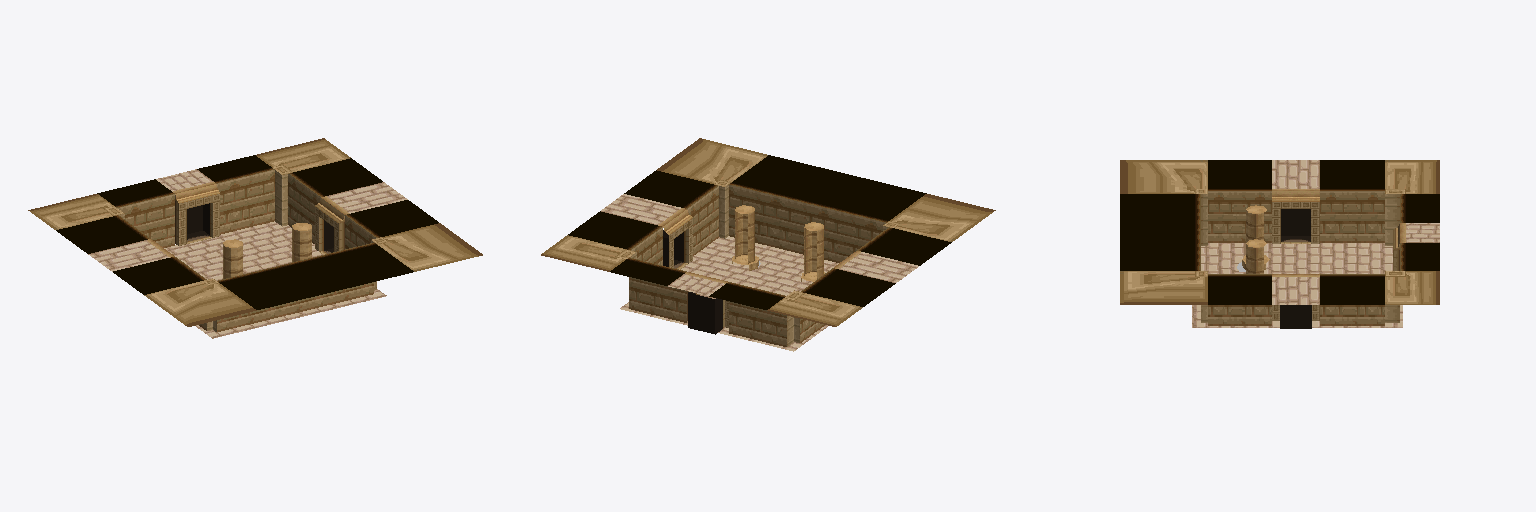
3 renders of one model, left to right at view 1: azimuth 30°, elevation 25°; view 2: azimuth 150°, elevation 25°; view 3: azimuth 270°, elevation 25°, orthographic.
Parts seen in each view (by area): view 1: polygon6, polygon1, polygon7, polygon5, polygon0, polygon2, polygon4, polygon3; view 2: polygon6, polygon7, polygon1, polygon5, polygon0, polygon3, polygon2, polygon4; view 3: polygon6, polygon1, polygon5, polygon7, polygon3, polygon2, polygon0, polygon4.
Part boxes in pixels (bbox=[...]): polygon6: bbox=[56, 155, 438, 309]; polygon1: bbox=[28, 138, 482, 326]; polygon7: bbox=[118, 170, 375, 331]; polygon5: bbox=[88, 169, 407, 338]; polygon0: bbox=[223, 223, 311, 278]; polygon2: bbox=[119, 170, 376, 331]; polygon4: bbox=[147, 182, 349, 257]; polygon3: bbox=[187, 203, 333, 253]; polygon6: bbox=[568, 155, 951, 309]; polygon7: bbox=[629, 185, 885, 346]; polygon1: bbox=[541, 138, 995, 327]; polygon5: bbox=[601, 194, 918, 351]; polygon0: bbox=[732, 205, 824, 281]; polygon3: bbox=[663, 230, 722, 334]; polygon2: bbox=[630, 185, 887, 346]; polygon4: bbox=[658, 208, 860, 283]; polygon6: bbox=[1120, 160, 1439, 304]; polygon1: bbox=[1120, 160, 1439, 320]; polygon5: bbox=[1192, 160, 1439, 327]; polygon7: bbox=[1208, 191, 1384, 325]; polygon3: bbox=[1280, 209, 1311, 328]; polygon2: bbox=[1201, 194, 1399, 322]; polygon0: bbox=[1242, 205, 1269, 273]; polygon4: bbox=[1272, 189, 1405, 276].
Size of the model in its own units: 5.34 by 1.01 by 5.
9 materials, 8 textured.